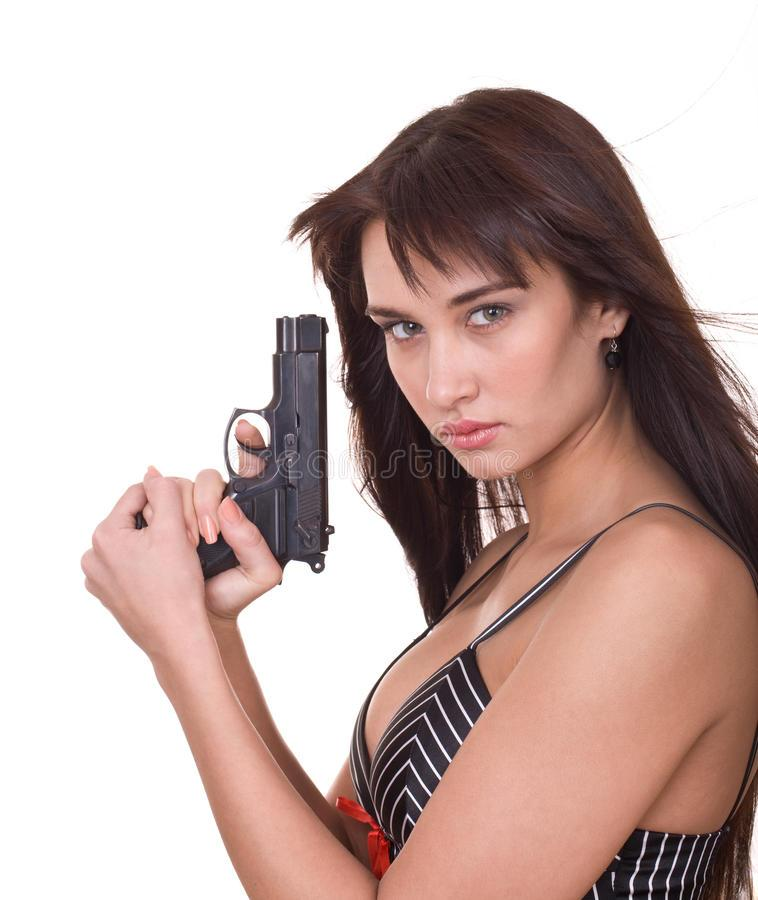criminal: (78, 82, 758, 900)
weapon: (128, 308, 342, 588)
